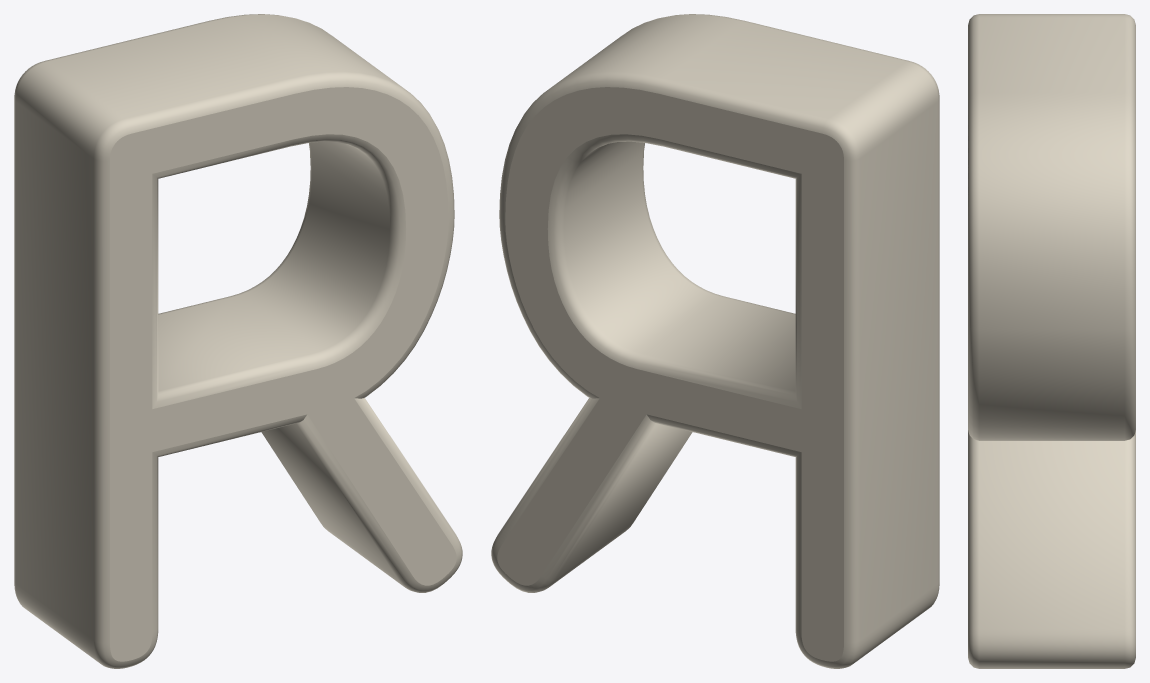
Rendered from letter_r.glb.
3 views of the same model, side by side, from view 1: azimuth 30°, elevation 25°; view 2: azimuth 150°, elevation 25°; view 3: azimuth 270°, elevation 25° (orthographic). The views are drawn at different scales.
Visible parts, largest first — view 1: color_body; view 2: color_body; view 3: color_body.
Boxes of the visible parts, <box> form: color_body: <box>14,14,462,668</box>; color_body: <box>491,14,939,668</box>; color_body: <box>968,14,1135,668</box>.
Bounding box in the file's own units: 0.5724 × 0.816 × 0.242.
